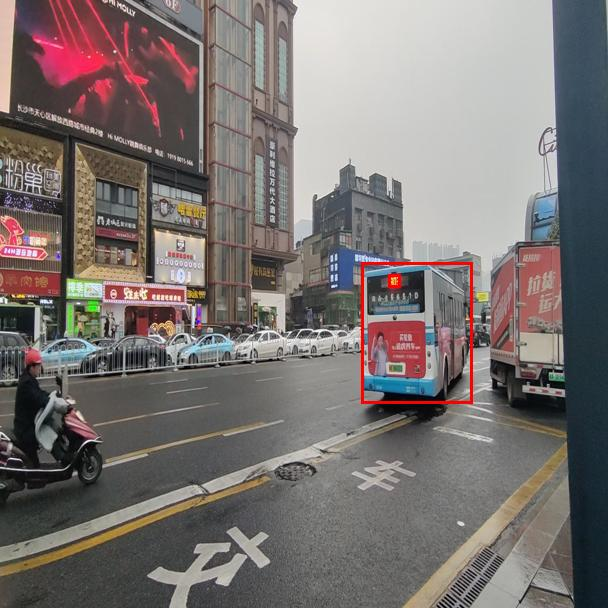bus: (361, 262, 472, 403)
screen: (388, 274, 400, 287)
